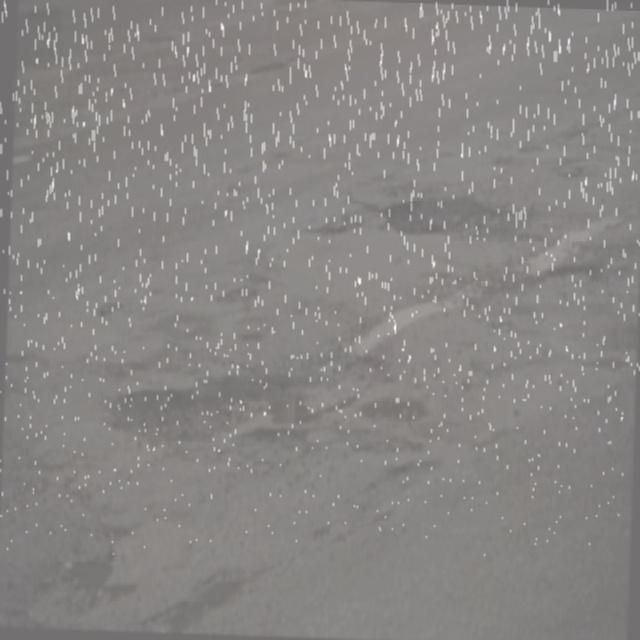Pothole: (119, 340, 448, 464), (368, 175, 543, 257)
